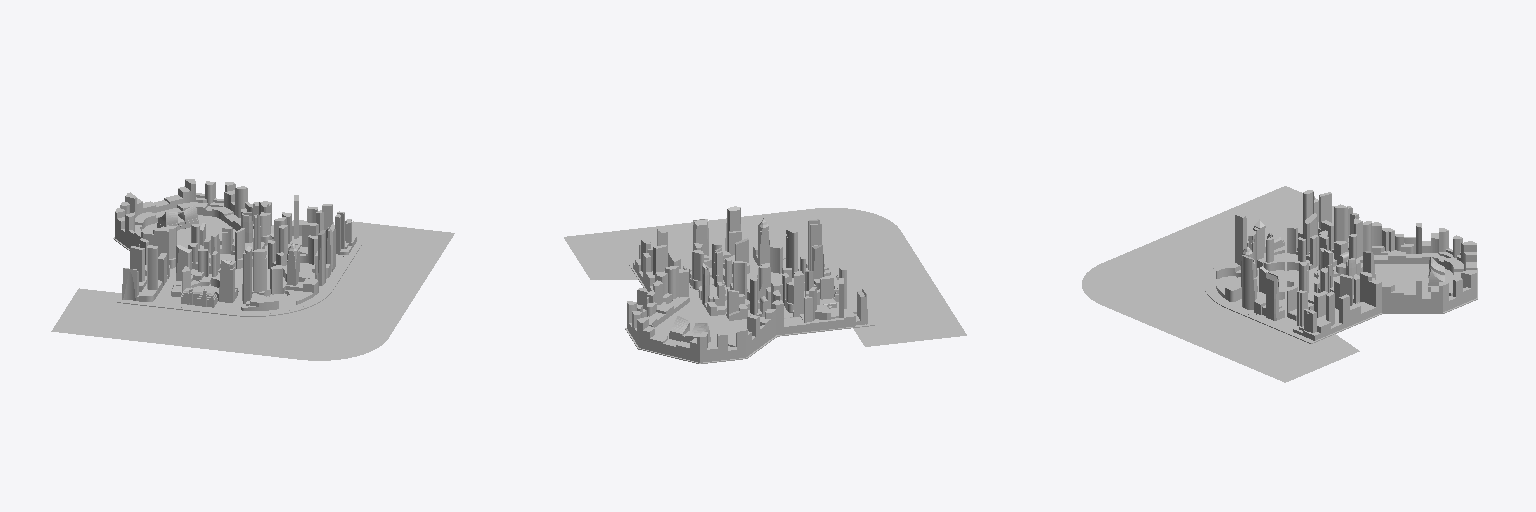
File: Camellia City.obj
The picture shows the model from 3 angles: view 1: azimuth 30°, elevation 25°; view 2: azimuth 150°, elevation 25°; view 3: azimuth 270°, elevation 25°; orthographic projection.
Parts seen in each view (by area): view 1: Mesh33 Wharf_Ground_Base1 Model, Mesh26 Uptown_Camellia_City1 Model, Mesh19 Camellia_City_World_Center1 Model, Mesh35 Camellia_City_Promenade1 Model, Mesh10 University_Place1 Model, Mesh29 Camellia_City_Financial_Center1 Model, Mesh15 Camellia_City_Center1 Model, Mesh4 Midtown_Camellia_City1 Model, Mesh14 Camellia_City_Center1 Model, Mesh31 Camellia_City_Financial_Center1 Model, Mesh1 Midtown_Camellia_City1 Model, Mesh13 University_Place1 Model (+2 smaller); view 2: Mesh33 Wharf_Ground_Base1 Model, Mesh26 Uptown_Camellia_City1 Model, Mesh19 Camellia_City_World_Center1 Model, Mesh29 Camellia_City_Financial_Center1 Model, Mesh1 Midtown_Camellia_City1 Model, Mesh35 Camellia_City_Promenade1 Model, Mesh4 Midtown_Camellia_City1 Model, Mesh10 University_Place1 Model, Mesh31 Camellia_City_Financial_Center1 Model, Mesh25 Camellia_City_Pok_mon_Gym1 Uptown_Camellia_City1 Model, Mesh15 Camellia_City_Center1 Model, Mesh14 Camellia_City_Center1 Model; view 3: Mesh33 Wharf_Ground_Base1 Model, Mesh26 Uptown_Camellia_City1 Model, Mesh35 Camellia_City_Promenade1 Model, Mesh19 Camellia_City_World_Center1 Model, Mesh29 Camellia_City_Financial_Center1 Model, Mesh1 Midtown_Camellia_City1 Model, Mesh10 University_Place1 Model, Mesh14 Camellia_City_Center1 Model, Mesh31 Camellia_City_Financial_Center1 Model, Mesh4 Midtown_Camellia_City1 Model.
Boxes of the visible parts, x1,y1,x2,y2 form: Mesh33 Wharf_Ground_Base1 Model: [51, 215, 454, 360]; Mesh26 Uptown_Camellia_City1 Model: [115, 179, 271, 268]; Mesh19 Camellia_City_World_Center1 Model: [122, 227, 169, 301]; Mesh35 Camellia_City_Promenade1 Model: [282, 195, 356, 254]; Mesh10 University_Place1 Model: [173, 245, 211, 292]; Mesh29 Camellia_City_Financial_Center1 Model: [298, 222, 335, 285]; Mesh15 Camellia_City_Center1 Model: [285, 243, 318, 304]; Mesh4 Midtown_Camellia_City1 Model: [219, 212, 264, 255]; Mesh14 Camellia_City_Center1 Model: [241, 246, 278, 310]; Mesh31 Camellia_City_Financial_Center1 Model: [274, 217, 317, 265]; Mesh1 Midtown_Camellia_City1 Model: [188, 223, 219, 273]; Mesh13 University_Place1 Model: [215, 260, 236, 302]; Mesh33 Wharf_Ground_Base1 Model: [564, 208, 966, 363]; Mesh26 Uptown_Camellia_City1 Model: [627, 266, 783, 362]; Mesh19 Camellia_City_World_Center1 Model: [793, 265, 867, 331]; Mesh29 Camellia_City_Financial_Center1 Model: [693, 206, 748, 267]; Mesh1 Midtown_Camellia_City1 Model: [726, 265, 770, 320]; Mesh35 Camellia_City_Promenade1 Model: [633, 228, 680, 291]; Mesh4 Midtown_Camellia_City1 Model: [699, 247, 729, 315]; Mesh10 University_Place1 Model: [782, 271, 833, 312]; Mesh31 Camellia_City_Financial_Center1 Model: [686, 242, 724, 289]; Mesh25 Camellia_City_Pok_mon_Gym1 Uptown_Camellia_City1 Model: [669, 316, 710, 342]; Mesh15 Camellia_City_Center1 Model: [753, 218, 785, 265]; Mesh14 Camellia_City_Center1 Model: [798, 219, 830, 276]; Mesh33 Wharf_Ground_Base1 Model: [1082, 186, 1477, 382]; Mesh26 Uptown_Camellia_City1 Model: [1353, 218, 1476, 314]; Mesh35 Camellia_City_Promenade1 Model: [1293, 274, 1360, 340]; Mesh19 Camellia_City_World_Center1 Model: [1298, 190, 1358, 252]; Mesh29 Camellia_City_Financial_Center1 Model: [1242, 255, 1284, 320]; Mesh1 Midtown_Camellia_City1 Model: [1318, 234, 1375, 278]; Mesh10 University_Place1 Model: [1287, 213, 1330, 269]; Mesh14 Camellia_City_Center1 Model: [1216, 213, 1246, 278]; Mesh31 Camellia_City_Financial_Center1 Model: [1287, 262, 1327, 316]; Mesh4 Midtown_Camellia_City1 Model: [1318, 249, 1375, 294].
Size of the model in its own units: 101462 by 13584 by 86242.